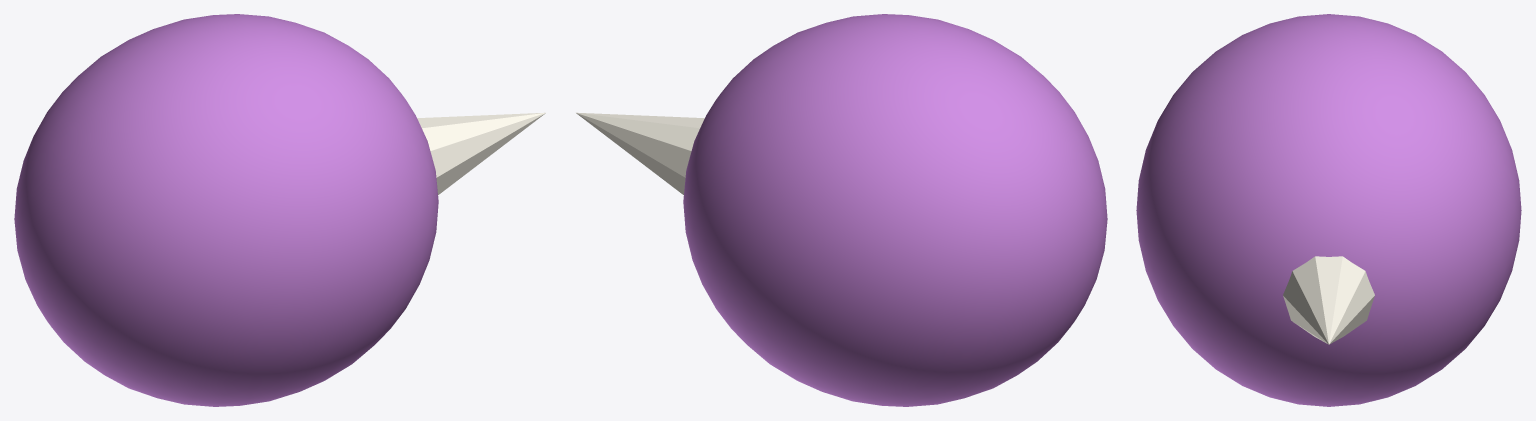
File: cell.toxin.glb
3 views of the same model, side by side, from view 1: azimuth 30°, elevation 25°; view 2: azimuth 150°, elevation 25°; view 3: azimuth 270°, elevation 25° (orthographic).
Parts seen in each view (by area): view 1: Toxin, Claw; view 2: Toxin, Claw; view 3: Toxin, Claw.
Part boxes in pixels (x1,y1,x2,y2): Toxin: (14,14,438,406); Claw: (417,112,545,194); Toxin: (683,14,1107,406); Claw: (576,112,704,194); Toxin: (1136,14,1521,406); Claw: (1283,256,1374,344).
Size of the model in its own units: 0.54 by 0.36 by 0.36.
